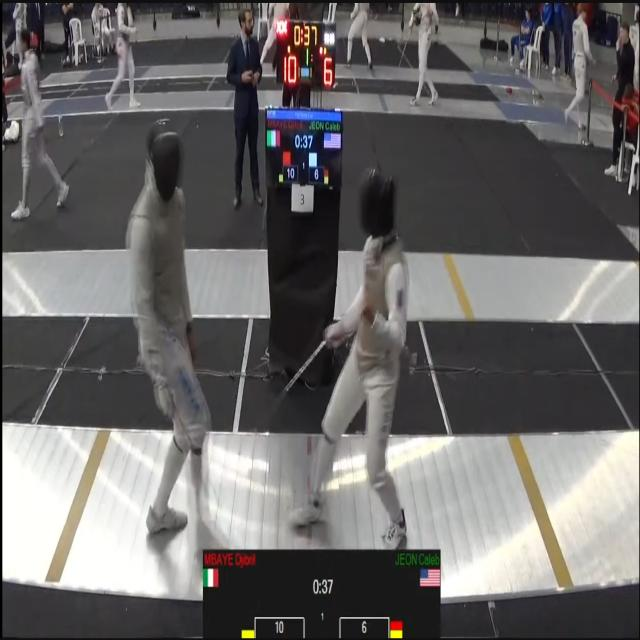fencer: (115, 122, 229, 546), (332, 165, 414, 544)
overlayLeft: (202, 551, 310, 600)
overlayRight: (335, 552, 441, 599)
scoreLeft: (273, 620, 302, 640)
scoreRight: (342, 619, 368, 640)
